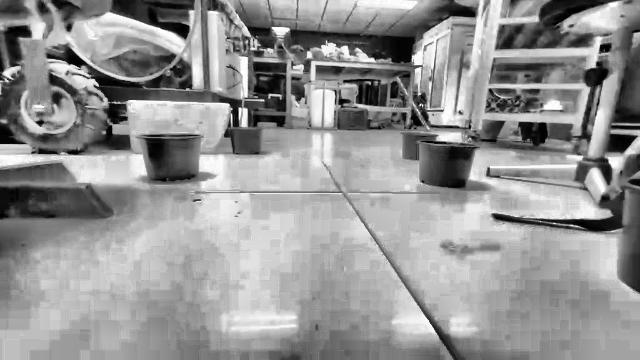pot: (136, 133, 202, 182), (417, 141, 479, 187), (620, 173, 639, 292), (402, 131, 438, 161), (229, 128, 262, 154)
